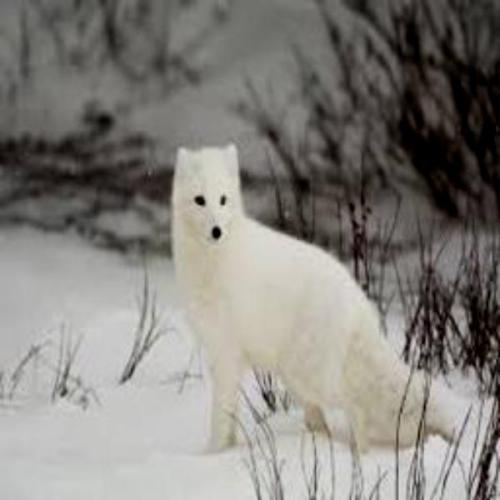arctic_fox-endangered: (172, 144, 454, 450)
